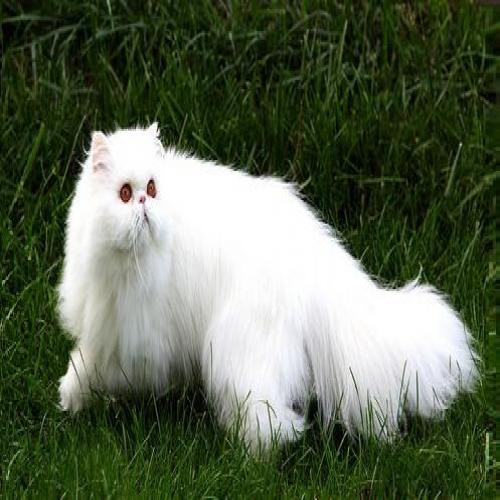persian: (74, 113, 181, 282)
